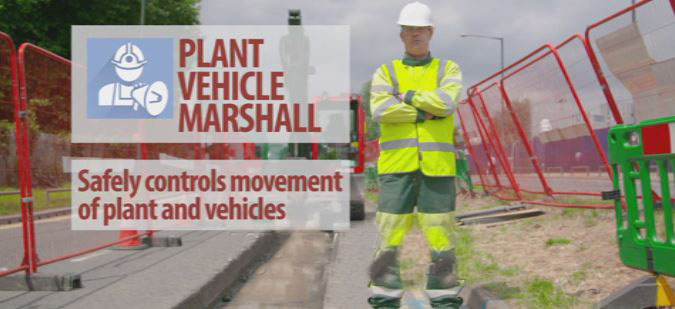Hard Hat: (391, 2, 441, 25)
High Viz: (383, 59, 458, 175)
